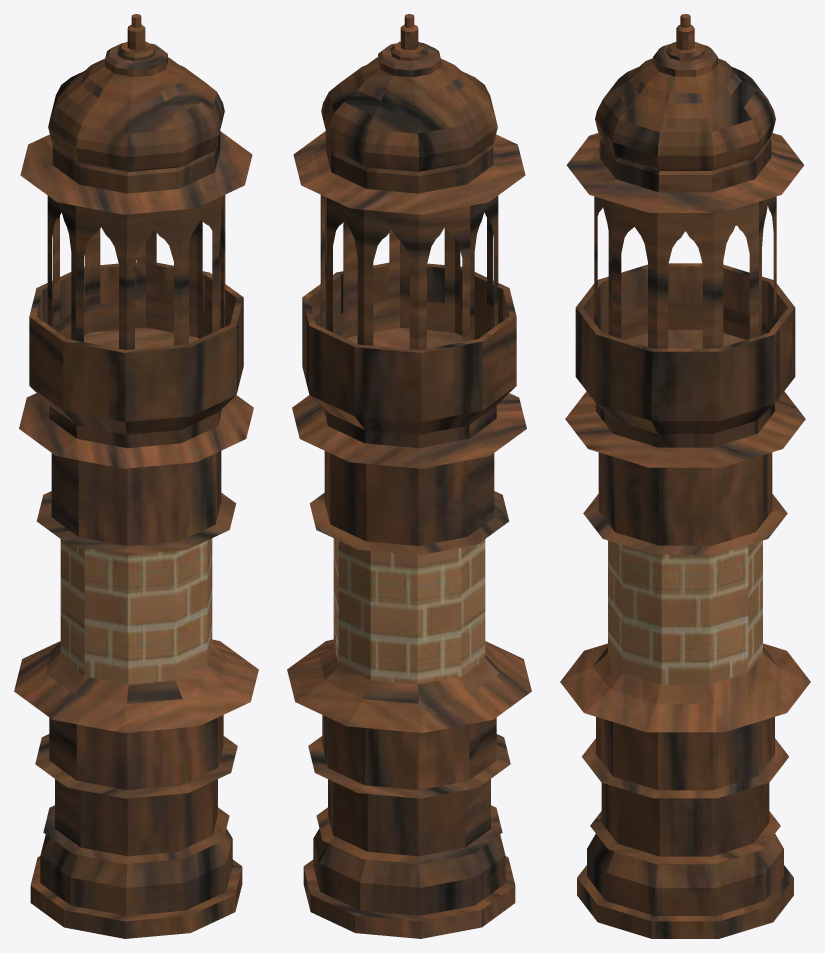
File: toren.fbx
3 views of the same model, side by side, from view 1: azimuth 30°, elevation 25°; view 2: azimuth 150°, elevation 25°; view 3: azimuth 270°, elevation 25° (orthographic).
Parts seen in each view (by area): view 1: Circle; view 2: Circle; view 3: Circle.
Boxes of the visible parts, bbox=[...] form: Circle: bbox=[14, 14, 258, 938]; Circle: bbox=[287, 14, 531, 938]; Circle: bbox=[560, 14, 810, 938].
Size of the model in its own units: 596 by 2423 by 627.
2 materials, 2 textured.
